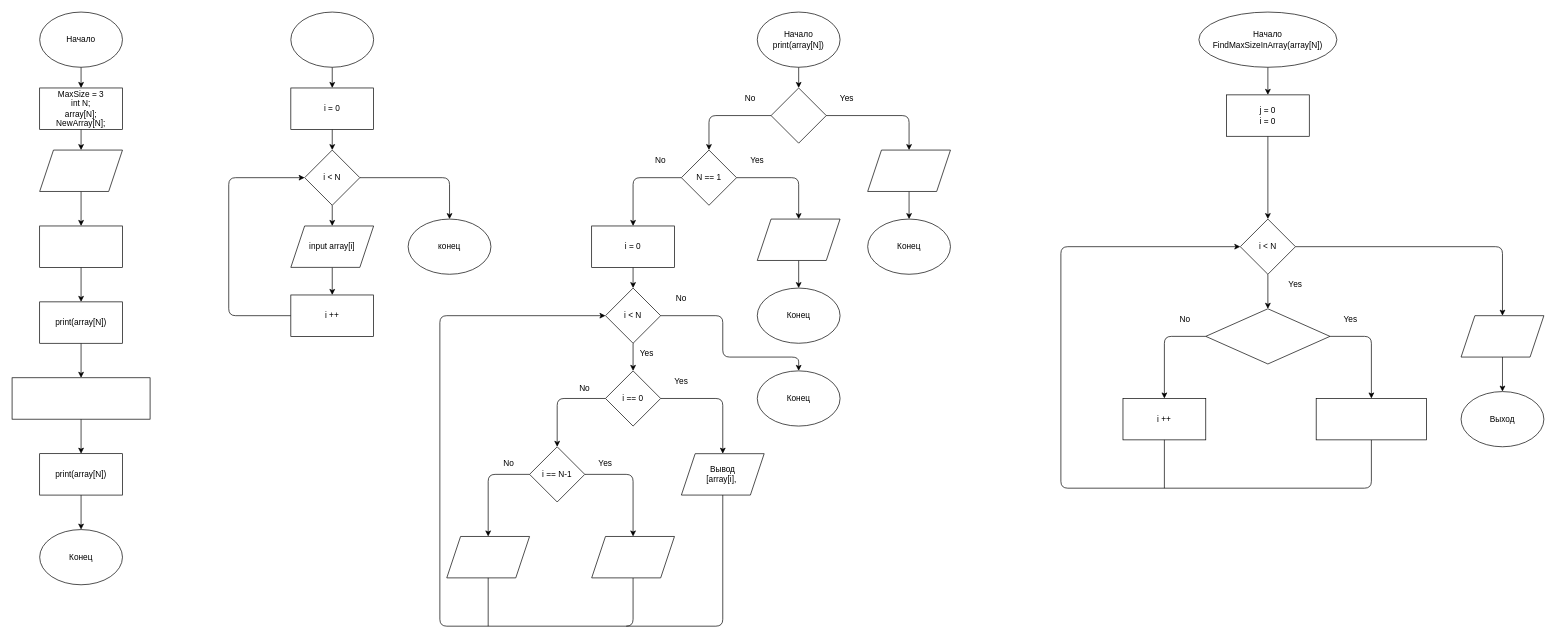
Image size: 1556x644. Some labels were removed from this diagram. The box of each missing label's shape, as (x1, y1, x2, y2) in pixels:
array[0] <= MaxSIze: (1205, 308, 1330, 364)
arrayNew[j] = array[i] j ++ i ++: (1315, 398, 1427, 440)
FindMaxSizeInArray(array[N]) return int SizeArray: (11, 377, 150, 419)
input N: (39, 149, 122, 191)
input(array[N]) i = 0 string Pos: (39, 225, 122, 267)
N == 0: (770, 87, 826, 143)
return j: (1460, 315, 1544, 357)
Вывод [ ]: (867, 149, 950, 191)
Вывод array [0]: (757, 218, 840, 260)
Вывод array[i],: (446, 536, 530, 578)
Вывод array[i]]: (591, 536, 674, 578)
Начало input(arr[N]): (290, 11, 374, 67)
